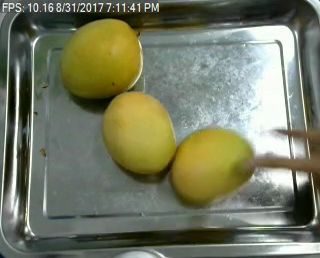Mango: (58, 14, 144, 99), (169, 127, 257, 209), (102, 90, 177, 176)
